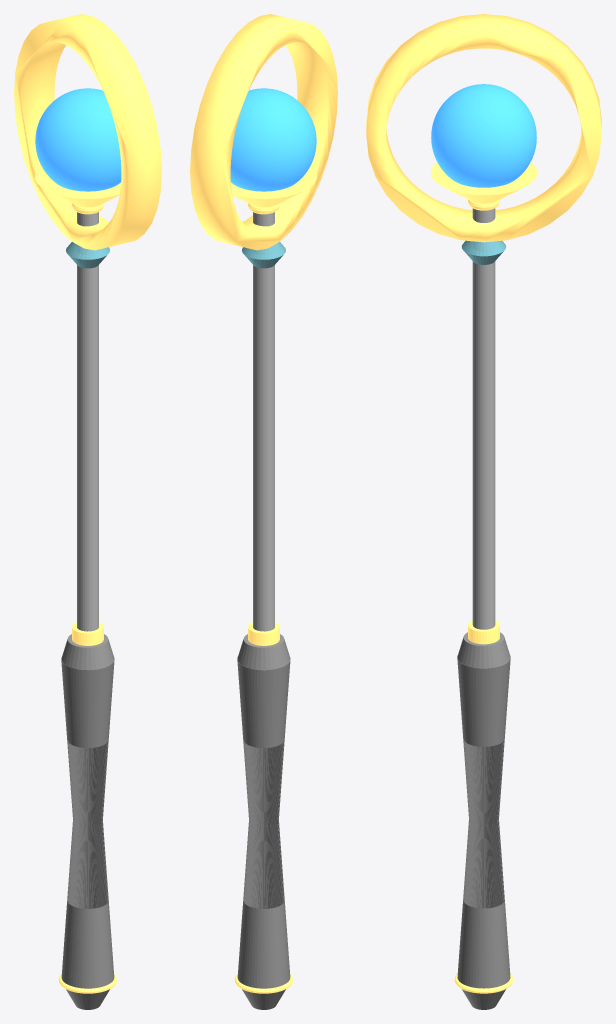
3 views of the same model, side by side, from view 1: azimuth 30°, elevation 25°; view 2: azimuth 150°, elevation 25°; view 3: azimuth 270°, elevation 25° (orthographic).
Parts seen in each view (by area): view 1: 金属, 持ち手, 柄, 蒼球, ダイヤ; view 2: 金属, 持ち手, 柄, 蒼球, ダイヤ; view 3: 金属, 持ち手, 柄, 蒼球, ダイヤ.
Boxes of the visible parts, bbox=[...] form: 金属: bbox=[14, 14, 161, 993]; 持ち手: bbox=[61, 634, 114, 1009]; 柄: bbox=[77, 212, 98, 631]; 蒼球: bbox=[35, 88, 121, 191]; ダイヤ: bbox=[66, 242, 109, 268]; 金属: bbox=[190, 14, 337, 993]; 持ち手: bbox=[237, 634, 290, 1009]; 柄: bbox=[253, 212, 274, 631]; 蒼球: bbox=[230, 88, 316, 191]; ダイヤ: bbox=[242, 242, 285, 268]; 金属: bbox=[366, 14, 601, 993]; 持ち手: bbox=[457, 632, 510, 1009]; 柄: bbox=[472, 208, 495, 629]; 蒼球: bbox=[431, 84, 536, 187]; ダイヤ: bbox=[461, 240, 506, 264].
Bounding box in the file's own units: 60 × 608 × 132.
